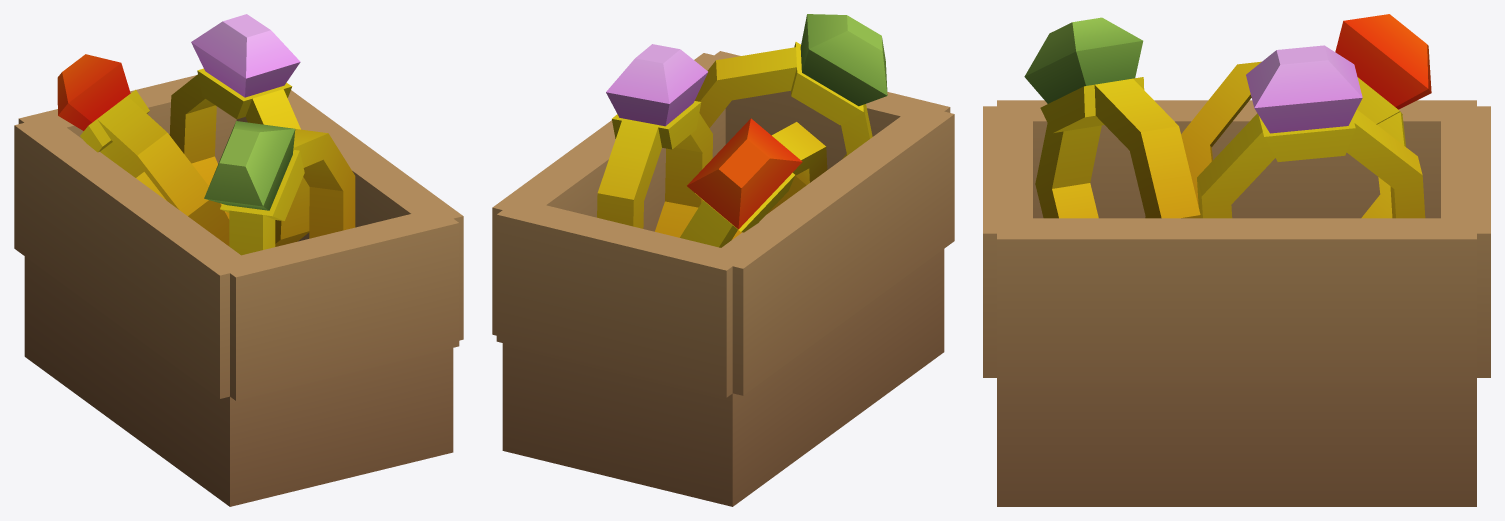
File: jewelry box.fbx
3 renders of one model, left to right at view 1: azimuth 30°, elevation 25°; view 2: azimuth 150°, elevation 25°; view 3: azimuth 270°, elevation 25°, orthographic. The views are drawn at different scales.
Visible parts, largest first — view 1: jewelry_box; view 2: jewelry_box; view 3: jewelry_box.
Part boxes in pixels (bbox=[...]): jewelry_box: bbox=[14, 14, 463, 506]; jewelry_box: bbox=[492, 14, 954, 506]; jewelry_box: bbox=[983, 14, 1490, 506].
Bounding box in the file's own units: 69.43 × 94.65 × 106.
Materials: 1 (1 with a texture image).
